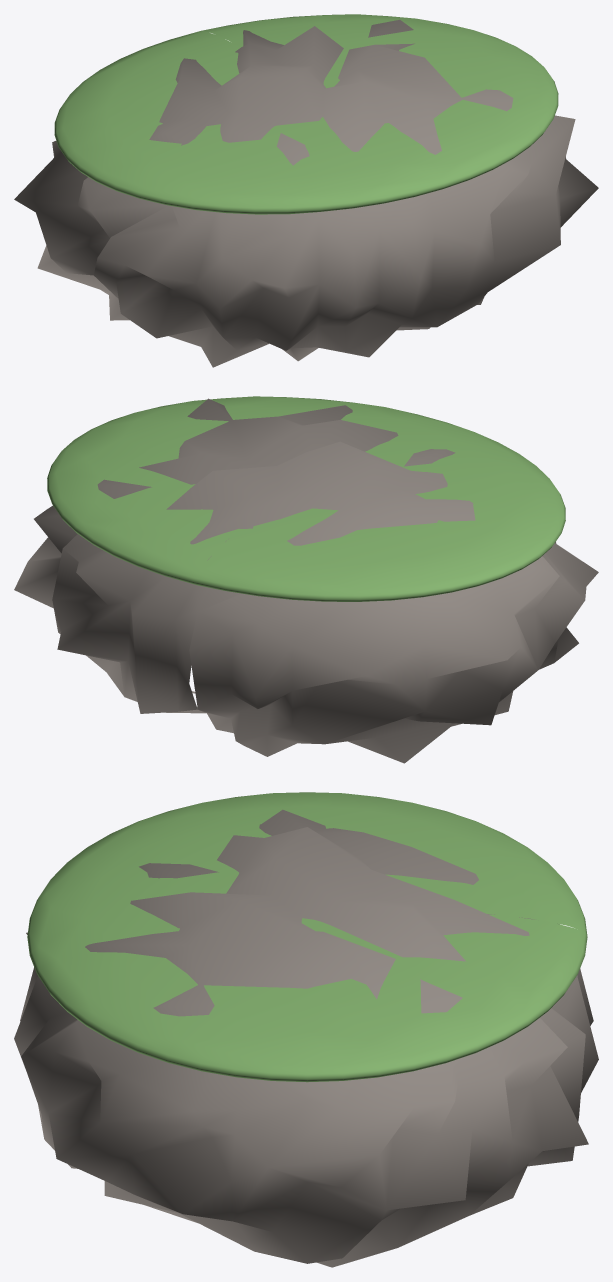
Rendered from sp_isl1.glb.
The picture shows the model from 3 angles, top to bottom: view 1: azimuth 30°, elevation 25°; view 2: azimuth 150°, elevation 25°; view 3: azimuth 270°, elevation 25°; orthographic projection. The views are drawn at different scales.
Bounding box in the file's own units: 12.87 × 6.65 × 10.44.
